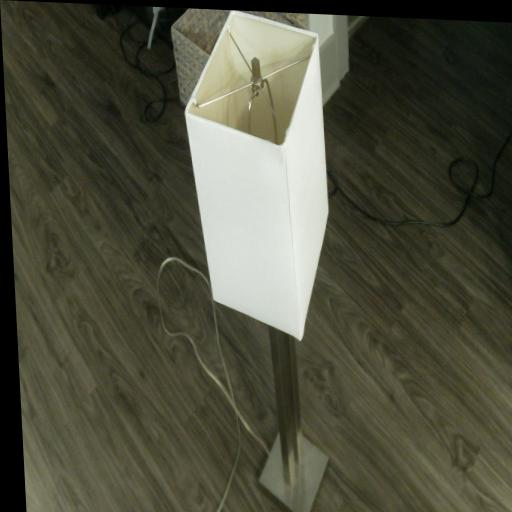lamp: (178, 8, 345, 512)
